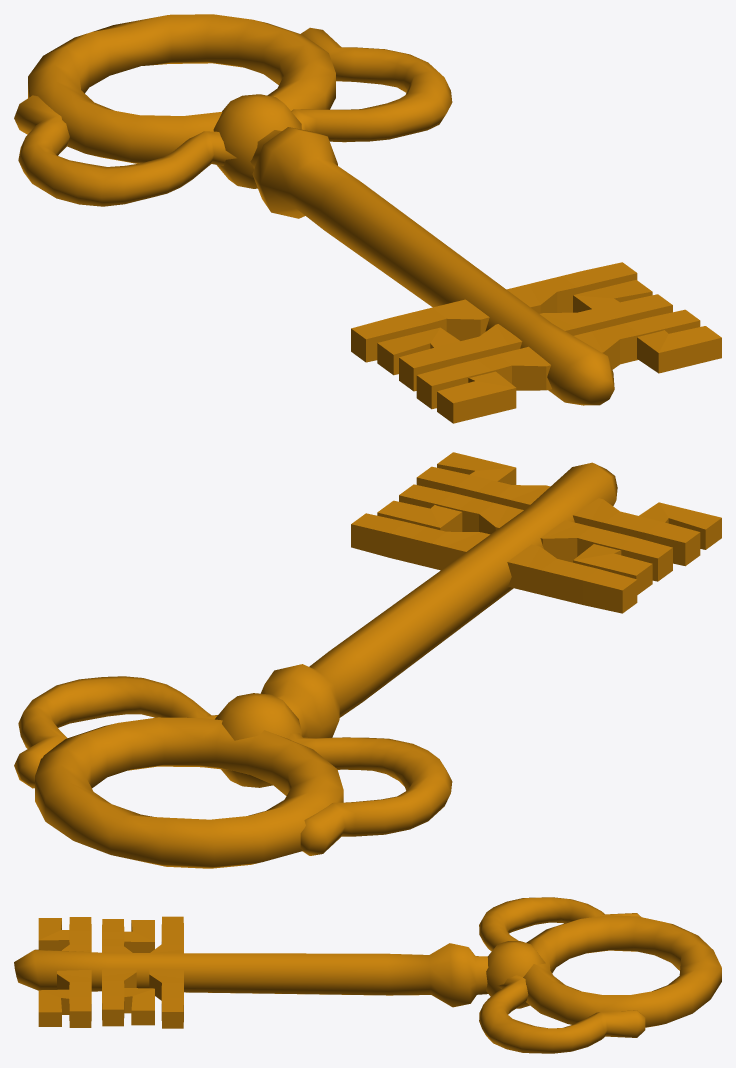
The model's file is key.gltf.
3 renders of one model, top to bottom at view 1: azimuth 30°, elevation 25°; view 2: azimuth 150°, elevation 25°; view 3: azimuth 270°, elevation 25°, orthographic. The views are drawn at different scales.
Visible parts, largest first — view 1: Key_Gold; view 2: Key_Gold; view 3: Key_Gold.
Part boxes in pixels (left/top/right/bottom): Key_Gold: left=14, top=14, right=721, bottom=423; Key_Gold: left=14, top=452, right=721, bottom=868; Key_Gold: left=14, top=897, right=721, bottom=1053.
Bounding box in the file's own units: 0.0581 × 0.0123 × 0.1223.
